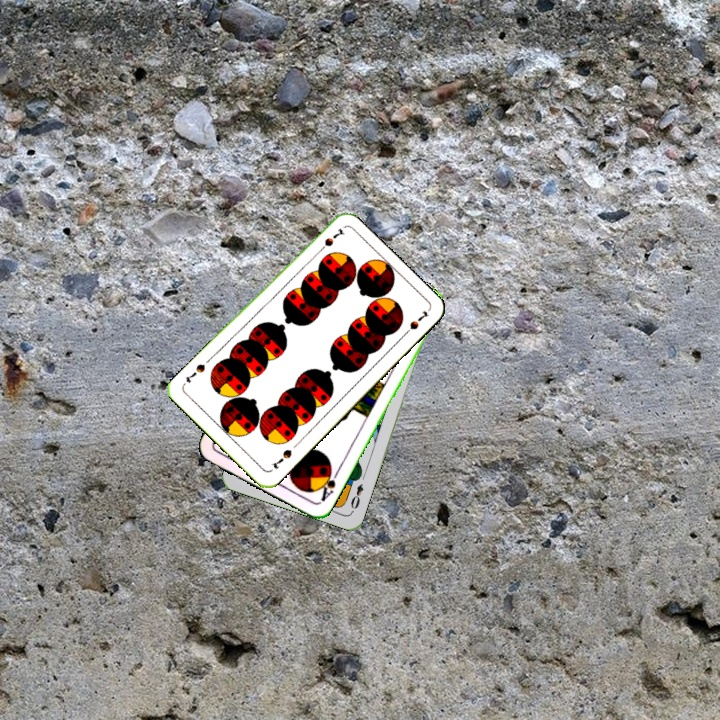EO: (346, 479, 366, 515)
S7: (314, 224, 347, 256), (267, 445, 294, 471)
SA: (315, 465, 341, 505)
